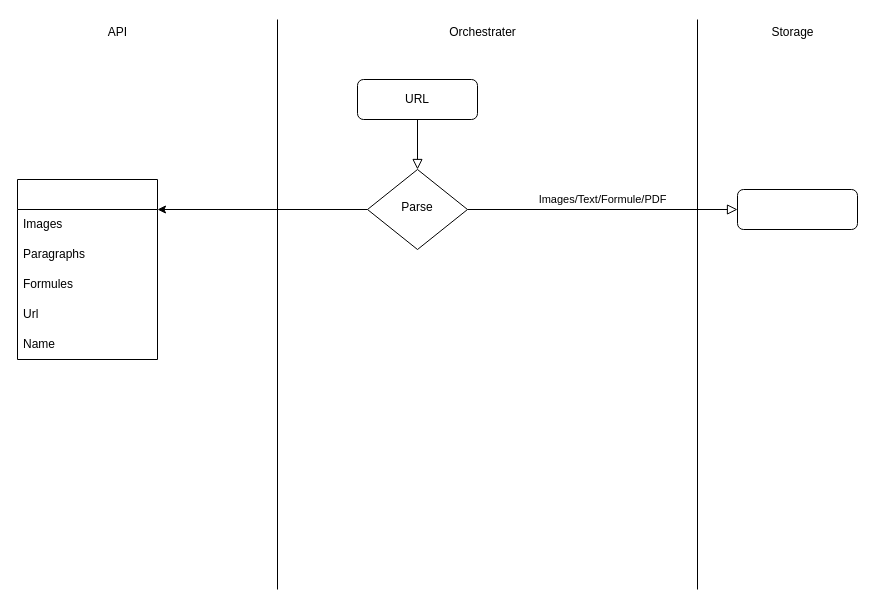
The diagram is 875 pixels wide and 608 high, and some of its shapes have lost their labels. Here are the shapes that lost their labels. From the top down, the box of each, then its label:
(736, 188, 858, 230): Blob
(16, 178, 158, 360): Dataset
